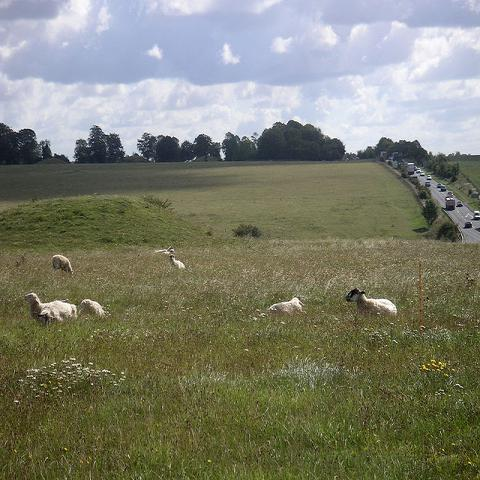car: (472, 211, 479, 220), (465, 222, 473, 228), (457, 200, 463, 207), (424, 181, 431, 187), (447, 191, 453, 198), (420, 170, 425, 176), (437, 183, 442, 188), (442, 187, 447, 191), (427, 175, 431, 180), (416, 168, 421, 172), (414, 166, 418, 170), (404, 162, 408, 166)
truck: (445, 196, 455, 210), (406, 162, 414, 175), (389, 152, 398, 161), (441, 185, 446, 191)
